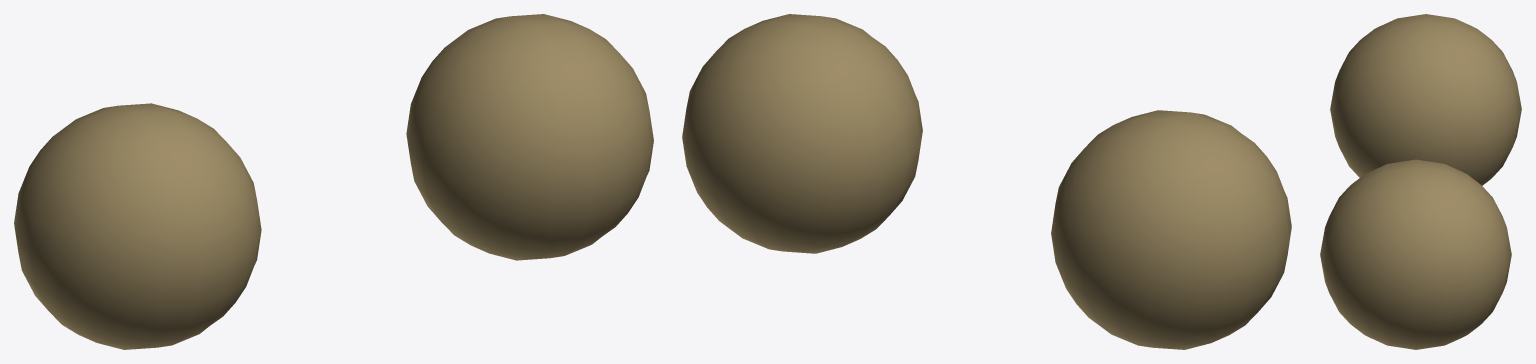
The picture shows the model from 3 angles, left to right: view 1: azimuth 30°, elevation 25°; view 2: azimuth 150°, elevation 25°; view 3: azimuth 270°, elevation 25°; orthographic projection. The views are drawn at different scales.
Parts seen in each view (by area): view 1: bols; view 2: bols; view 3: bols.
Boxes of the visible parts, <box> form: bols: <box>14,14,653,349</box>; bols: <box>682,14,1291,349</box>; bols: <box>1320,14,1521,349</box>.
Size of the model in its own units: 5.97 by 2.14 by 2.25.
